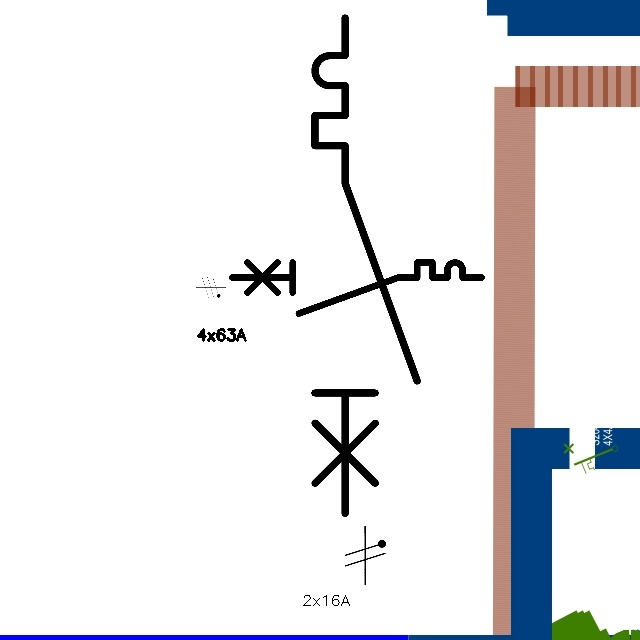interruptor_termomagnetico: (302, 5, 429, 526), (225, 256, 487, 320)
